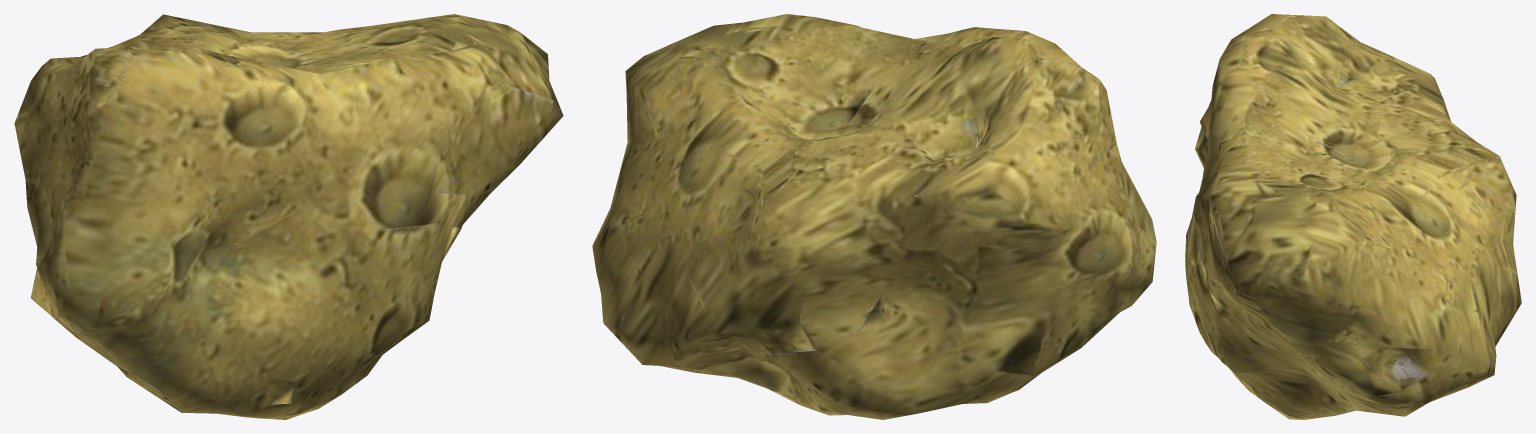
The model's file is asteroid_02.glb.
3 views of the same model, side by side, from view 1: azimuth 30°, elevation 25°; view 2: azimuth 150°, elevation 25°; view 3: azimuth 270°, elevation 25° (orthographic). The views are drawn at different scales.
Parts seen in each view (by area): view 1: Mesh_0.003; view 2: Mesh_0.003; view 3: Mesh_0.003.
Boxes of the visible parts, x1=… form: Mesh_0.003: x1=14, y1=14, x2=563, y2=419; Mesh_0.003: x1=592, y1=14, x2=1156, y2=419; Mesh_0.003: x1=1185, y1=14, x2=1521, y2=419.
Size of the model in its own units: 1.95 by 1.45 by 1.34.
1 material, 1 textured.
